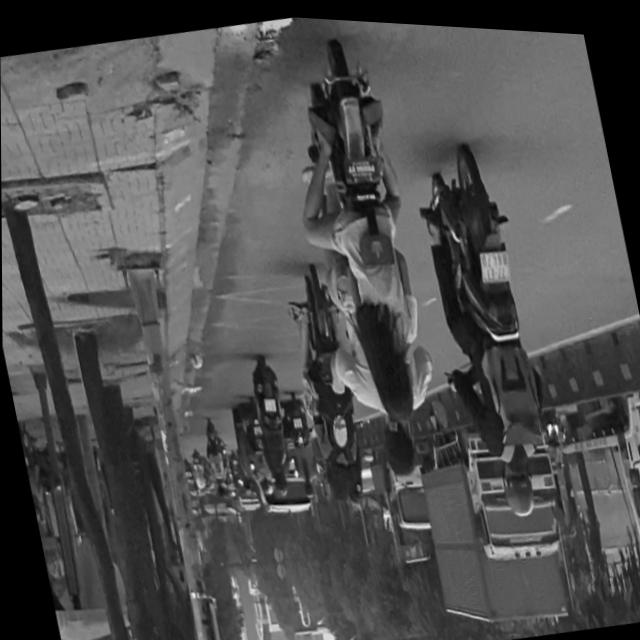helmet: (496, 448, 540, 517)
licenseplate: (262, 12, 463, 497), (404, 127, 569, 525)
motorcyclist: (351, 301, 424, 422), (376, 410, 421, 479)
nohelmet: (478, 244, 511, 280)
